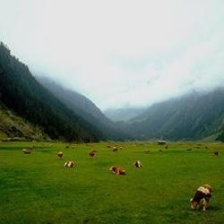neutral: (5, 3, 222, 224)
